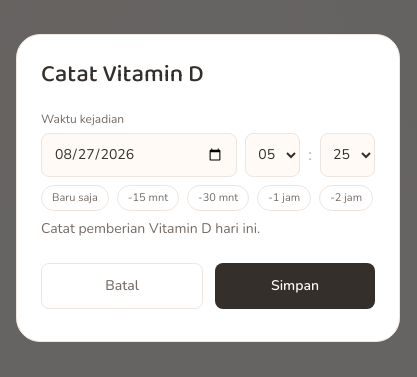
Test: QuickLogSheet — save/error handling › 6. a genuine save/enqueue failure keeps the modal open and shows a readable error, without closing
Click the button "Simpan" at (295, 286), box [215,263,375,309]
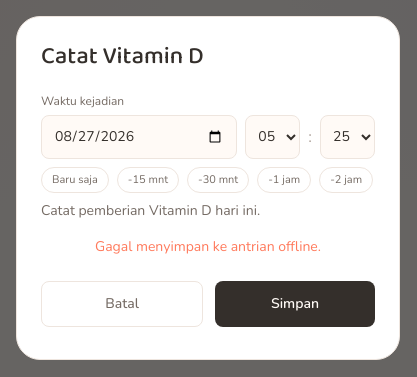
Result: the text "Gagal menyimpan ke antrian offline." is shown at [95,237,321,256]
